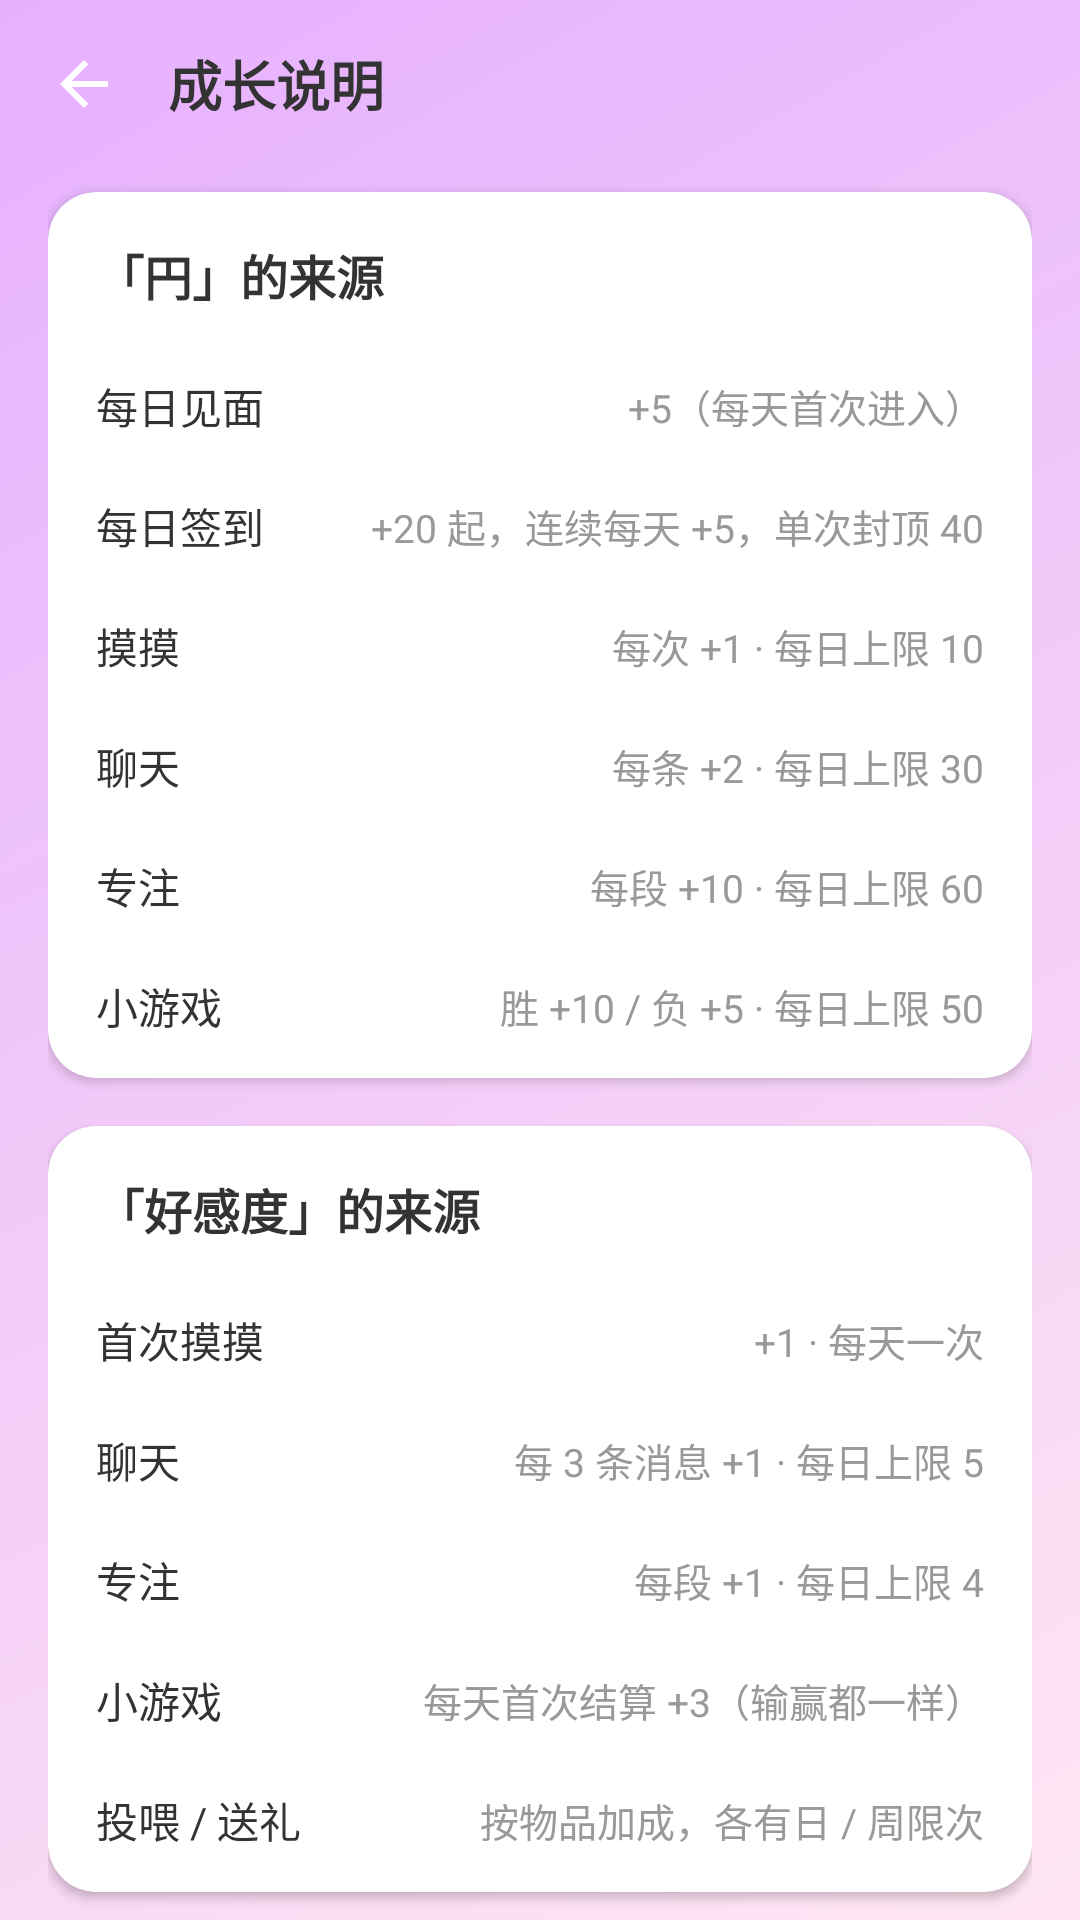

Screen size 1080x1920. Icon name, then its box in pixels as (x1, y1, x2, y2):
返回: (60, 60, 108, 108)
